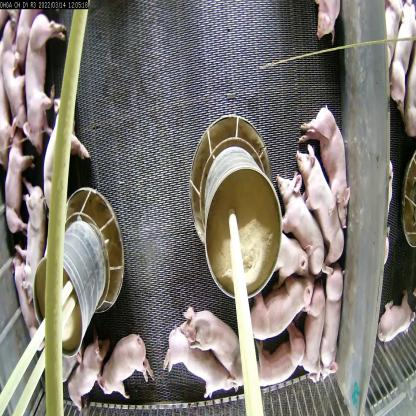Pig: (304, 102, 355, 234), (295, 136, 346, 265), (176, 297, 250, 385), (159, 326, 239, 406), (272, 173, 327, 278), (20, 13, 58, 155), (245, 273, 316, 338), (245, 322, 306, 391), (5, 252, 47, 350), (18, 177, 51, 301), (98, 330, 154, 402), (0, 131, 33, 236), (66, 332, 109, 412), (298, 282, 328, 390), (0, 26, 28, 136), (323, 257, 346, 384), (373, 289, 415, 353), (269, 225, 314, 278), (394, 0, 416, 106), (312, 0, 346, 43)
